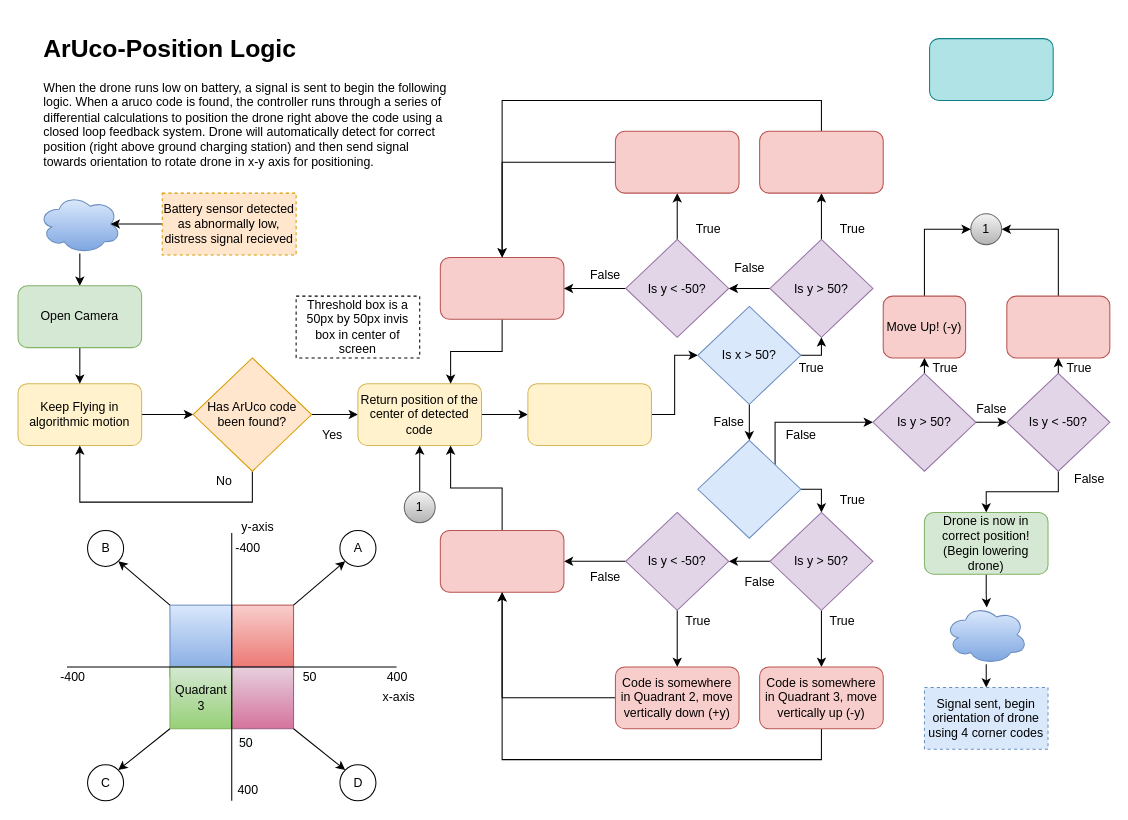
This 1128x820 diagram has some shape labels left out. Each missing label, with the box of its shape:
Authors: Chris Lai and Paul Thai: (929, 38, 1053, 100)
Calculate differential of center from the threshold box: (527, 383, 651, 445)
Code is somewhere in Quadrant 1, move vertically down (+y): (614, 130, 739, 193)
Code is somewhere in Quadrant 4, move vertically up (-y): (759, 130, 883, 193)
Is x < -50?: (697, 439, 801, 538)
Move Down! (+y): (1006, 295, 1110, 358)
Move left! (-x): (439, 256, 564, 319)
Move right! (+x): (439, 529, 564, 592)
Part A: (38, 193, 121, 254)
Part B: (944, 604, 1027, 664)
Quadrant 1: (231, 604, 294, 677)
Quadrant 2: (169, 604, 232, 677)
Quadrant 4: (231, 666, 294, 729)
